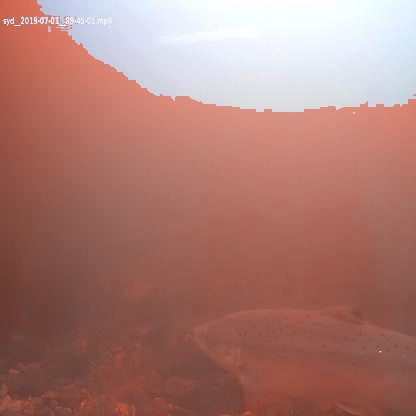salmon: (188, 299, 415, 415)
